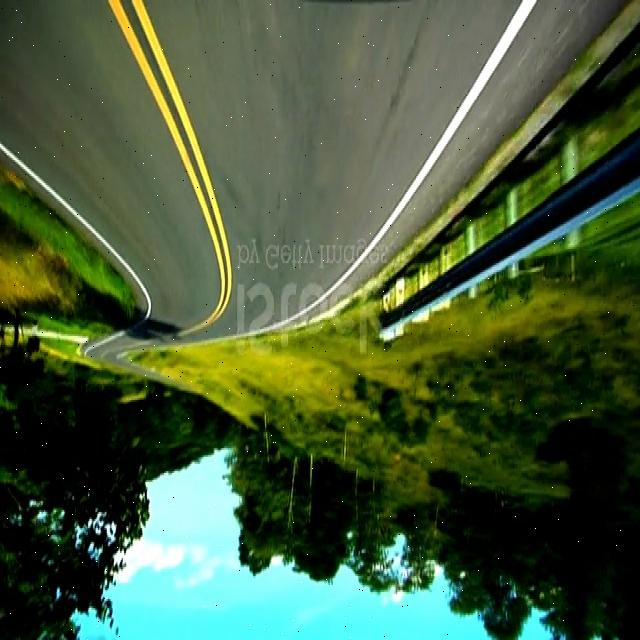lane: (291, 1, 535, 319), (108, 2, 231, 336), (2, 143, 150, 317)
road: (0, 4, 622, 363)
